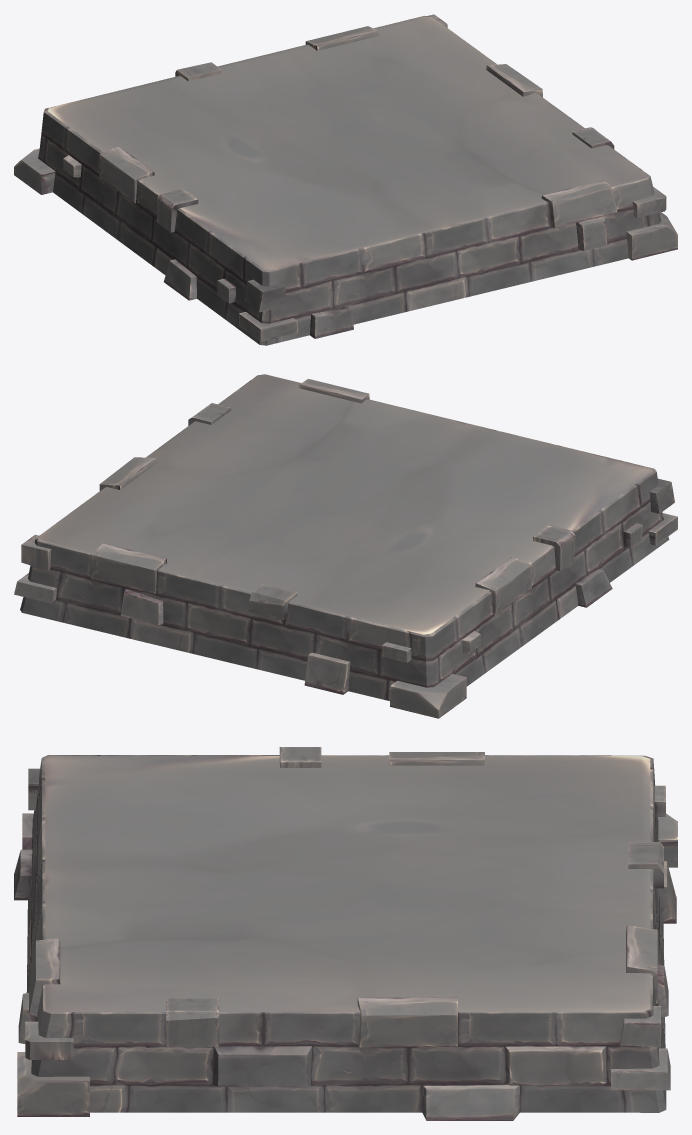
The model's file is SM_BLD_base_v01_01.fbx.
3 views of the same model, one above another, from view 1: azimuth 30°, elevation 25°; view 2: azimuth 150°, elevation 25°; view 3: azimuth 270°, elevation 25° (orthographic). The views are drawn at different scales.
Visible parts, largest first — view 1: SM_BLD_base_v01_01; view 2: SM_BLD_base_v01_01; view 3: SM_BLD_base_v01_01.
Boxes of the visible parts, x1,y1,x2,y2 form: SM_BLD_base_v01_01: [14, 14, 677, 345]; SM_BLD_base_v01_01: [14, 374, 677, 718]; SM_BLD_base_v01_01: [14, 747, 677, 1120].
Size of the model in its own units: 647 by 109 by 643.
